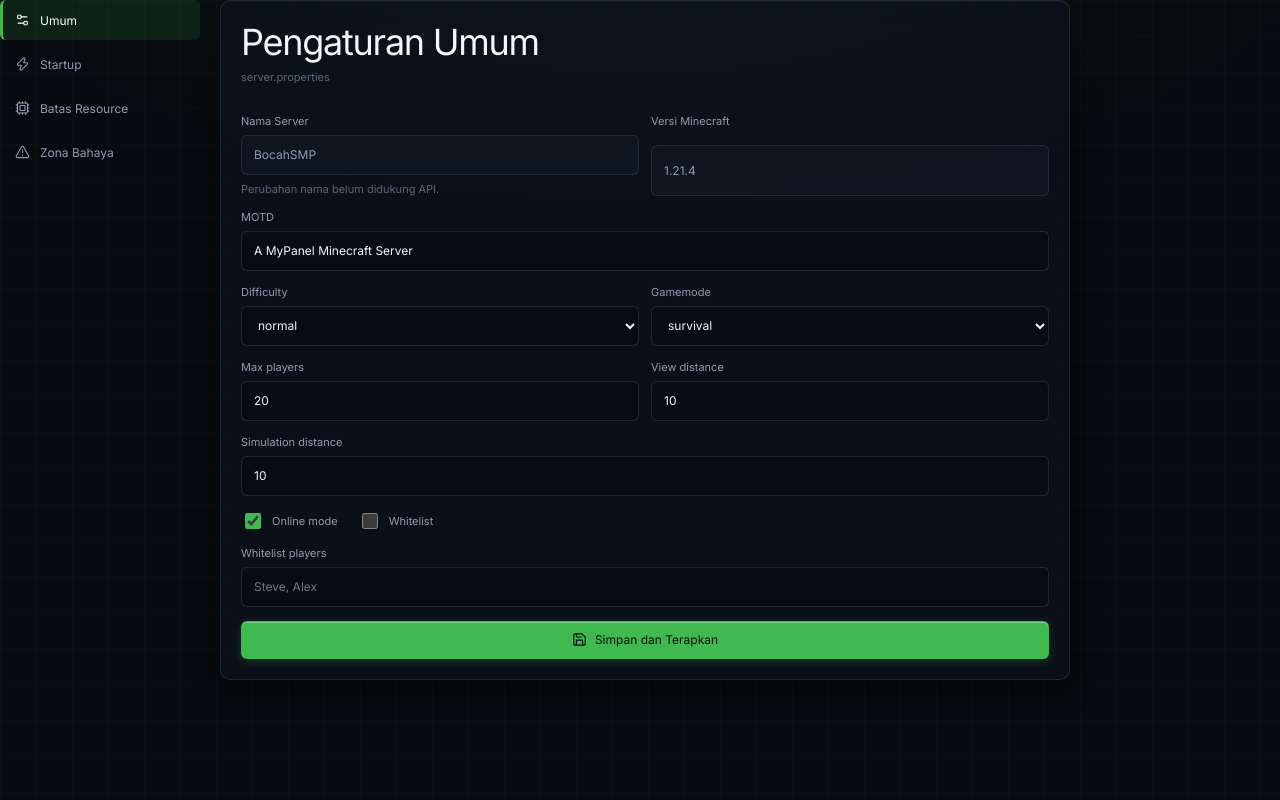
Test: ServerSettings danger zone › requires the exact server name before permanent deletion
Click the button "Zona Bahaya" at x=100, y=152, box x1=0 y1=132 x2=200 y2=172
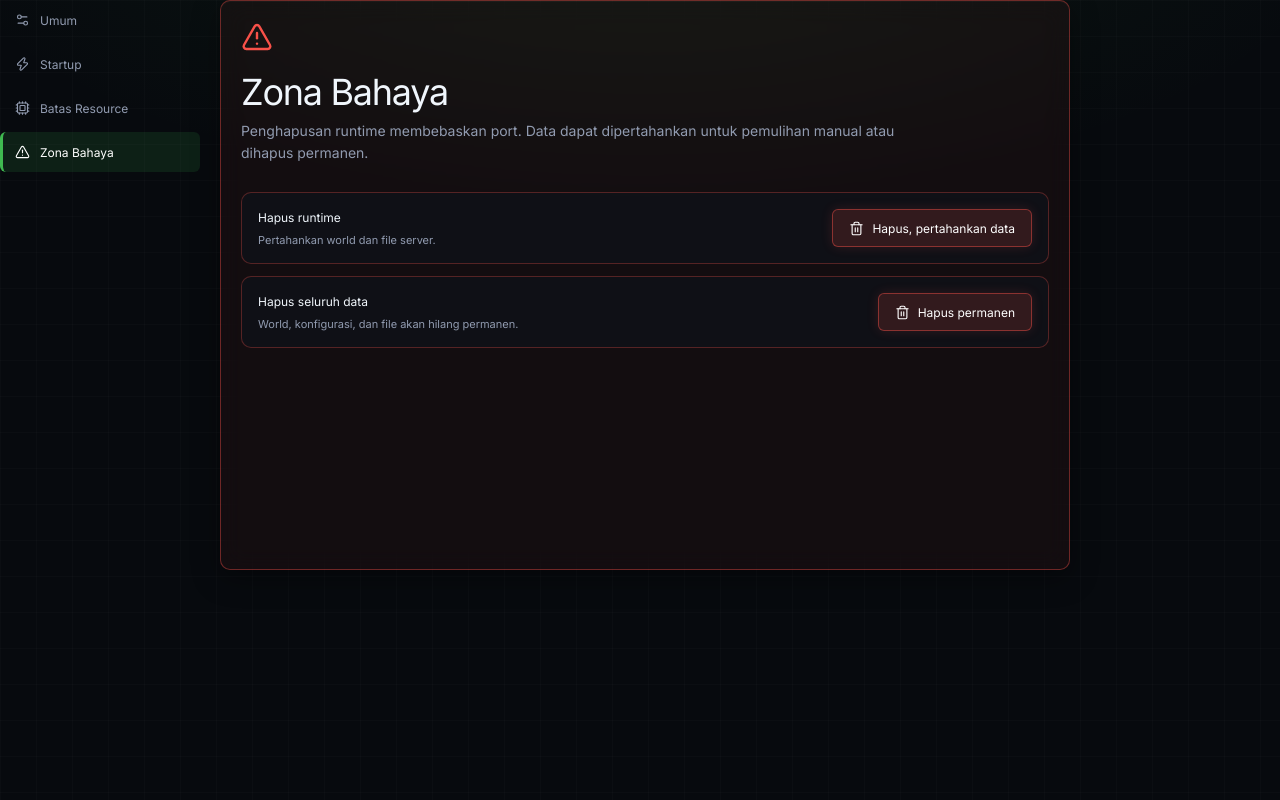
Click the button "Hapus permanen" at x=955, y=312, box x1=878 y1=293 x2=1032 y2=331
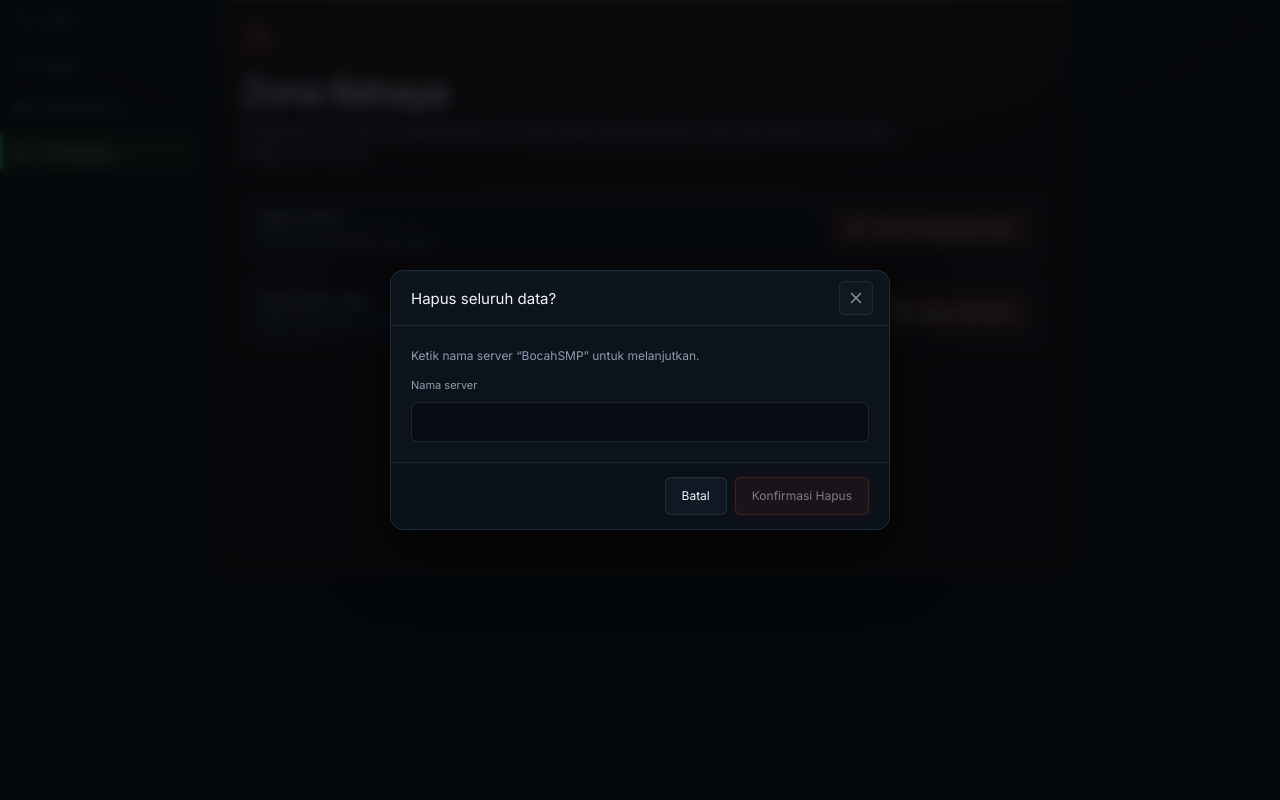
Now the button "Konfirmasi Hapus" is disabled, box x1=735 y1=477 x2=869 y2=515
Type "BocahSMP" into the field labelled "Nama server" at x=640, y=422, box x1=411 y1=402 x2=869 y2=442
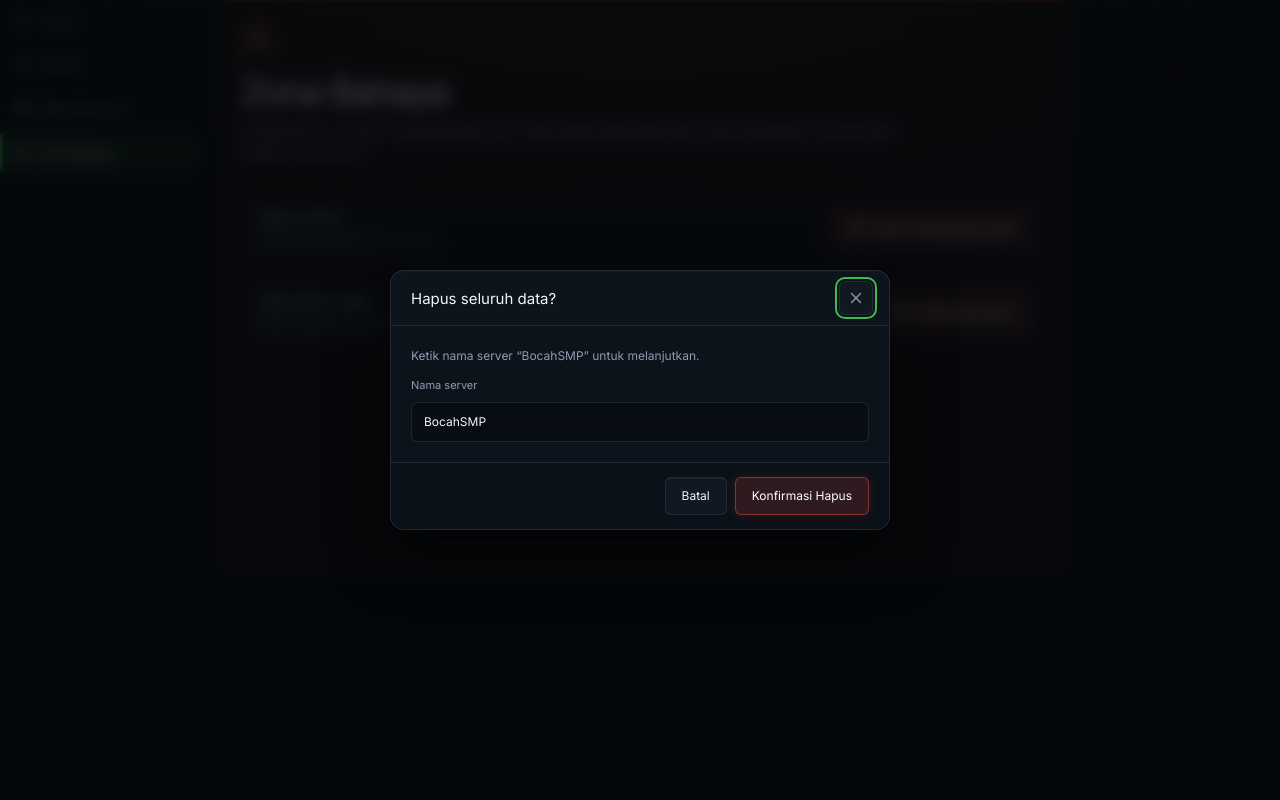
Now the button "Konfirmasi Hapus" is enabled, box x1=735 y1=477 x2=869 y2=515
